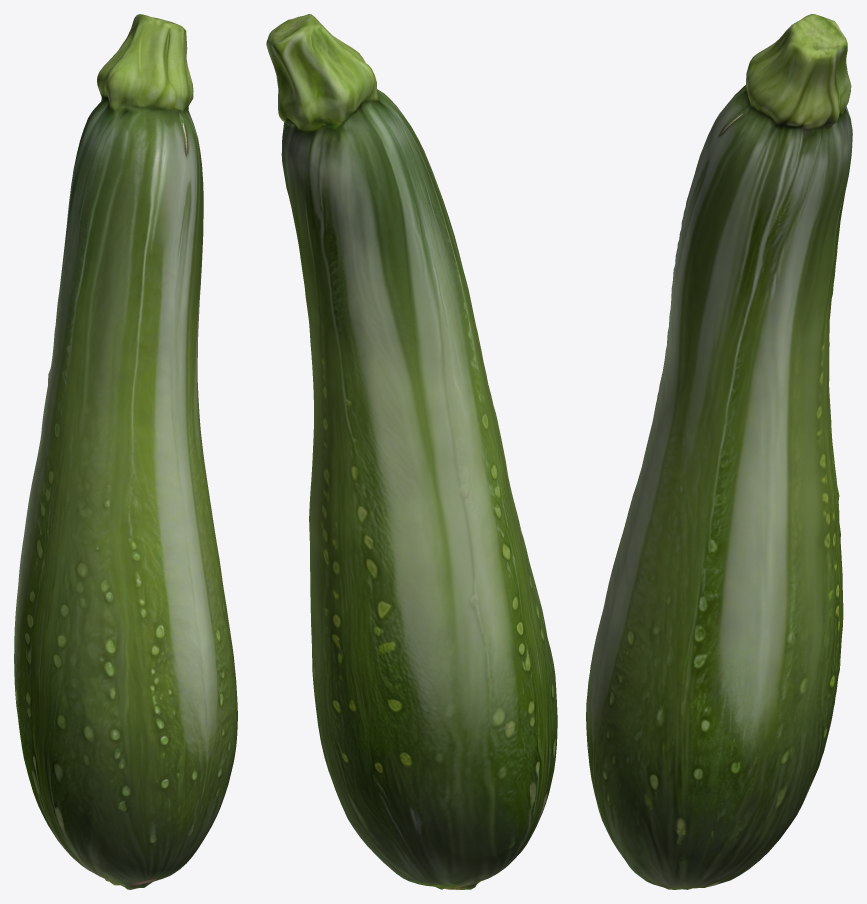
Rendered from zucchini.glb.
3 views of the same model, side by side, from view 1: azimuth 30°, elevation 25°; view 2: azimuth 150°, elevation 25°; view 3: azimuth 270°, elevation 25° (orthographic). The views are drawn at different scales.
Parts seen in each view (by area): view 1: Zucchini_0; view 2: Zucchini_0; view 3: Zucchini_0.
Boxes of the visible parts, x1=… form: Zucchini_0: x1=14, y1=14, x2=237, y2=889; Zucchini_0: x1=266, y1=14, x2=557, y2=889; Zucchini_0: x1=586, y1=14, x2=852, y2=889.
Bounding box in the file's own units: 0.5113 × 2 × 0.533.
Materials: 1 (1 with a texture image).
